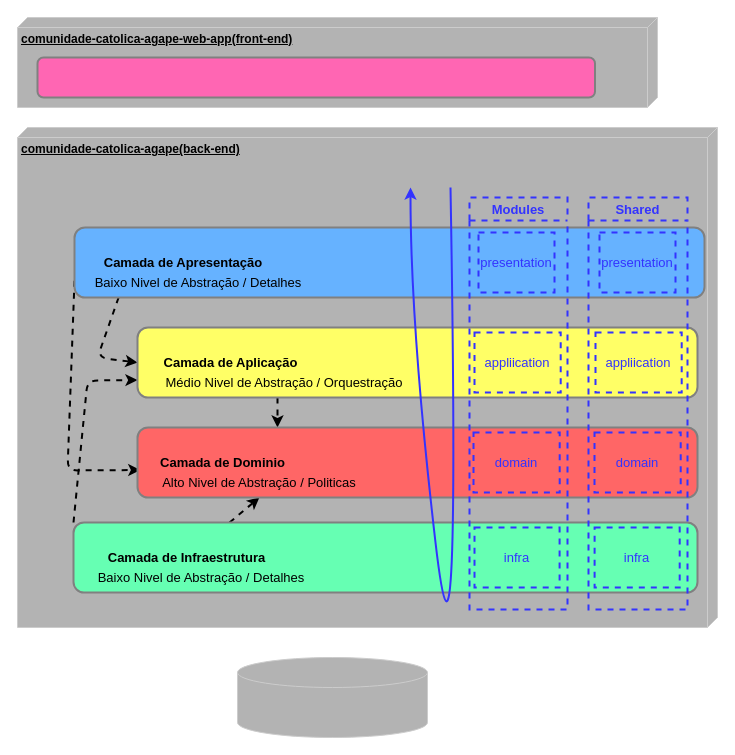
Image size: 735x755. Some labels were removed from this diagram. The centre of each missing label's shape, as x and y in pixels:
Database (Relacional): point 332,697
Interface de Usuário: point 316,77
